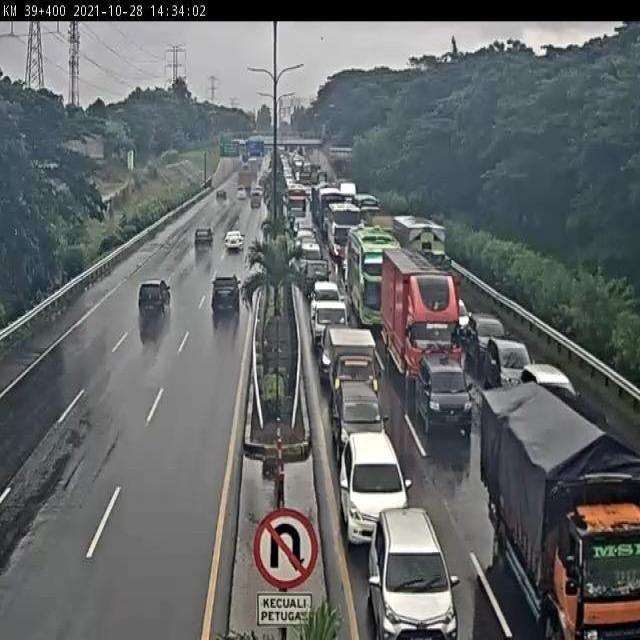car: (360, 489, 451, 636), (334, 429, 409, 539), (416, 350, 472, 438), (322, 328, 384, 405), (327, 382, 389, 458), (520, 364, 580, 409), (309, 296, 350, 352), (466, 313, 508, 360), (487, 337, 530, 375), (298, 259, 330, 299), (137, 279, 170, 317), (212, 275, 242, 313), (447, 293, 470, 335), (296, 238, 320, 266), (312, 278, 340, 302), (193, 229, 213, 252), (224, 229, 244, 252)
truck: (484, 389, 640, 640), (380, 247, 459, 393), (348, 228, 401, 329), (392, 212, 456, 284), (322, 202, 362, 258)
